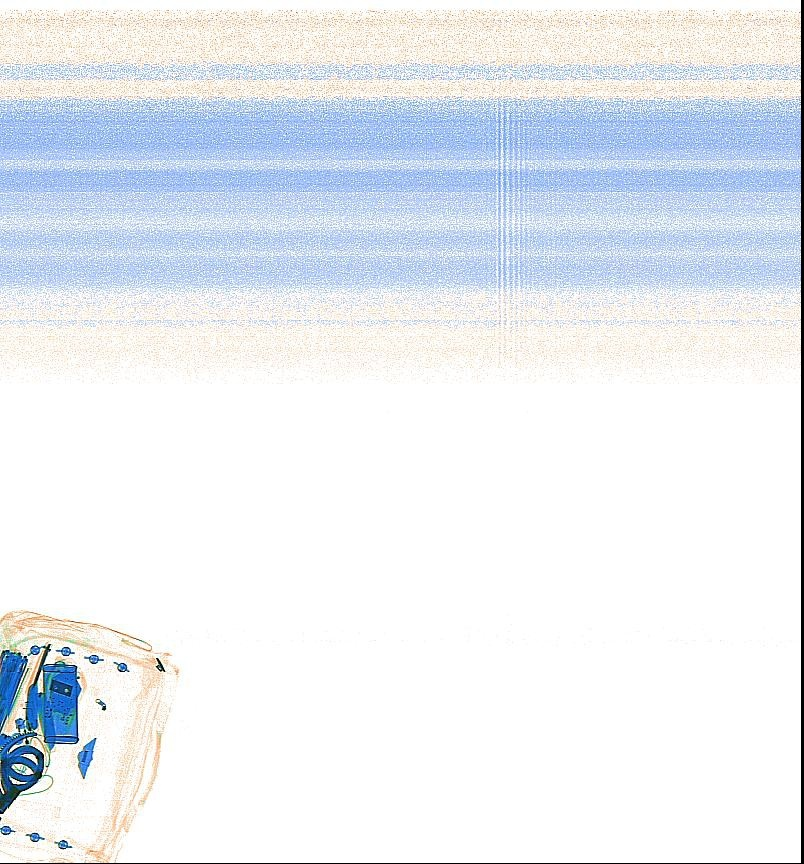handcuffs: (1, 731, 46, 815)
knife: (32, 691, 57, 753), (29, 640, 50, 693), (23, 683, 40, 734)
zippooil: (38, 663, 80, 745)
